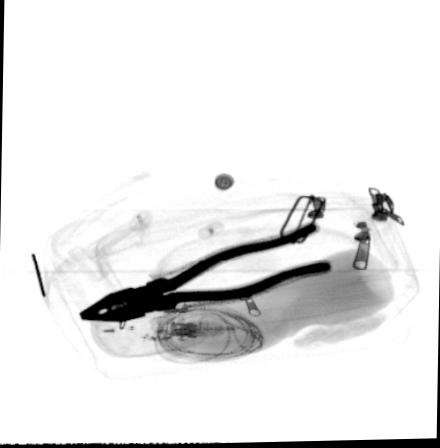Pliers: (77, 222, 332, 323)
